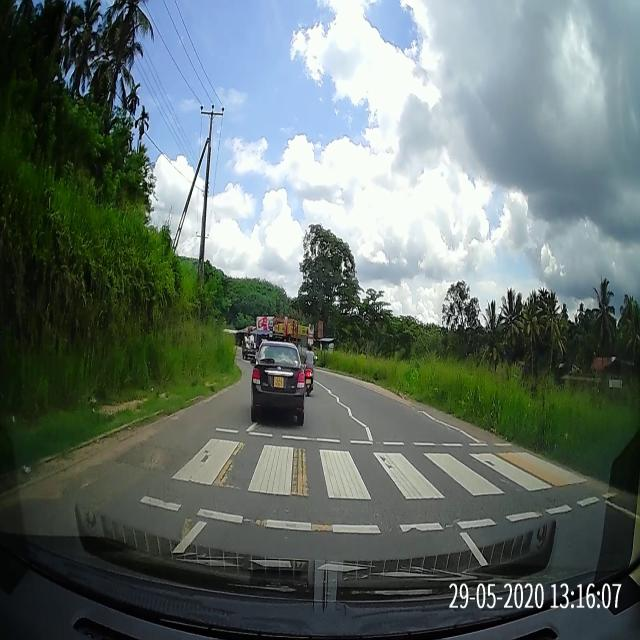Crosswalk: (128, 423, 633, 541)
